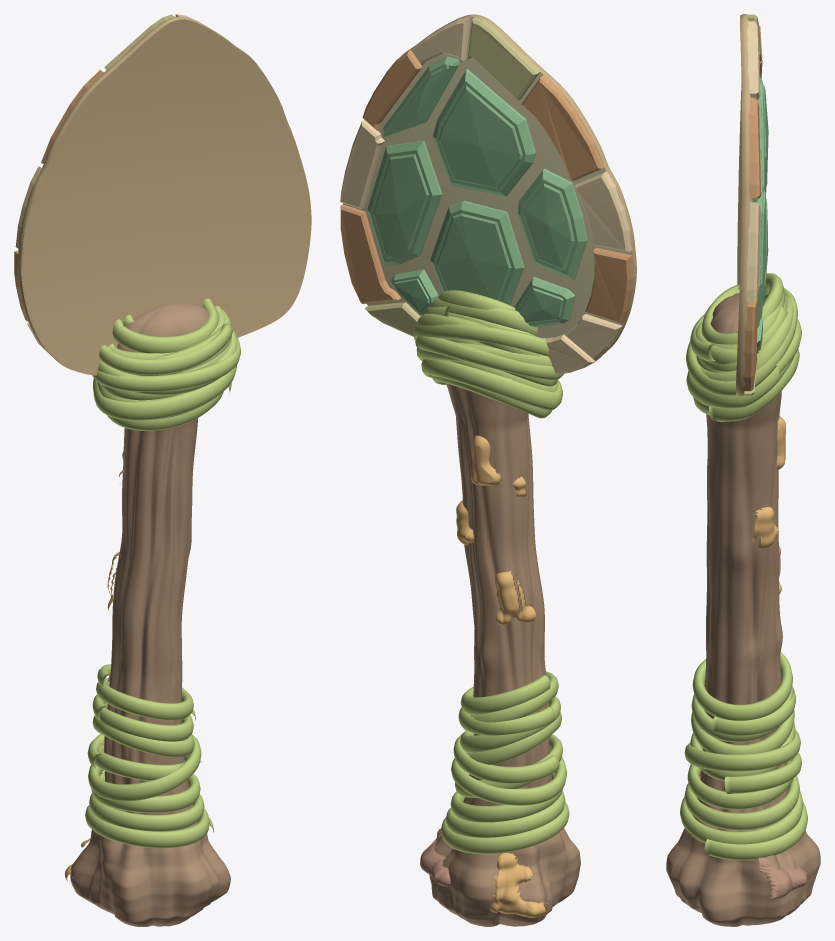
File: PalaCaparazon.glb
3 views of the same model, side by side, from view 1: azimuth 30°, elevation 25°; view 2: azimuth 150°, elevation 25°; view 3: azimuth 270°, elevation 25° (orthographic).
Visible parts, largest first — view 1: Blade_Underside, Handle_Shaft, Wrap_Grip, Wrap_TopBinding, Handle_Knob, Blade_MarginalBrown; view 2: Blade_ScutesGreen, Handle_Shaft, Wrap_Grip, Blade_Base, Wrap_TopBinding, Blade_MarginalBrown, Blade_MarginalTan, Handle_Knob, Mud_Drips, Blade_MarginalOlive, Blade_Underside, Mud_Wet; view 3: Handle_Shaft, Wrap_Grip, Wrap_TopBinding, Handle_Knob, Blade_Underside, Blade_MarginalBrown, Blade_ScutesGreen, Blade_MarginalTan, Mud_Drips, Mud_Wet.
Part boxes in pixels (<box>): Blade_Underside: <box>17,16,311,375</box>; Handle_Shaft: <box>104,302,208,830</box>; Wrap_Grip: <box>85,664,213,848</box>; Wrap_TopBinding: <box>92,298,240,430</box>; Handle_Knob: <box>70,821,230,926</box>; Blade_MarginalBrown: <box>14,70,103,321</box>; Blade_ScutesGreen: <box>367,56,587,327</box>; Handle_Shaft: <box>446,383,551,805</box>; Wrap_Grip: <box>441,671,569,854</box>; Blade_Base: <box>343,17,633,364</box>; Wrap_TopBinding: <box>413,290,563,418</box>; Blade_MarginalBrown: <box>340,50,634,323</box>; Blade_MarginalTan: <box>340,16,632,374</box>; Handle_Knob: <box>429,828,580,926</box>; Mud_Drips: <box>456,435,548,918</box>; Blade_MarginalOlive: <box>365,17,540,336</box>; Blade_Underside: <box>400,14,636,365</box>; Mud_Wet: <box>420,828,450,886</box>; Handle_Shaft: <box>693,293,788,831</box>; Wrap_Grip: <box>680,652,807,860</box>; Wrap_TopBinding: <box>686,273,801,421</box>; Handle_Knob: <box>666,825,820,926</box>; Blade_Underside: <box>736,14,750,396</box>; Blade_MarginalBrown: <box>743,26,762,391</box>; Blade_ScutesGreen: <box>752,76,768,353</box>; Blade_MarginalTan: <box>746,21,760,302</box>; Mud_Drips: <box>752,416,785,593</box>; Mud_Wet: <box>758,857,807,899</box>.
Size of the model in its own units: 1.7 by 5 by 0.7683.
